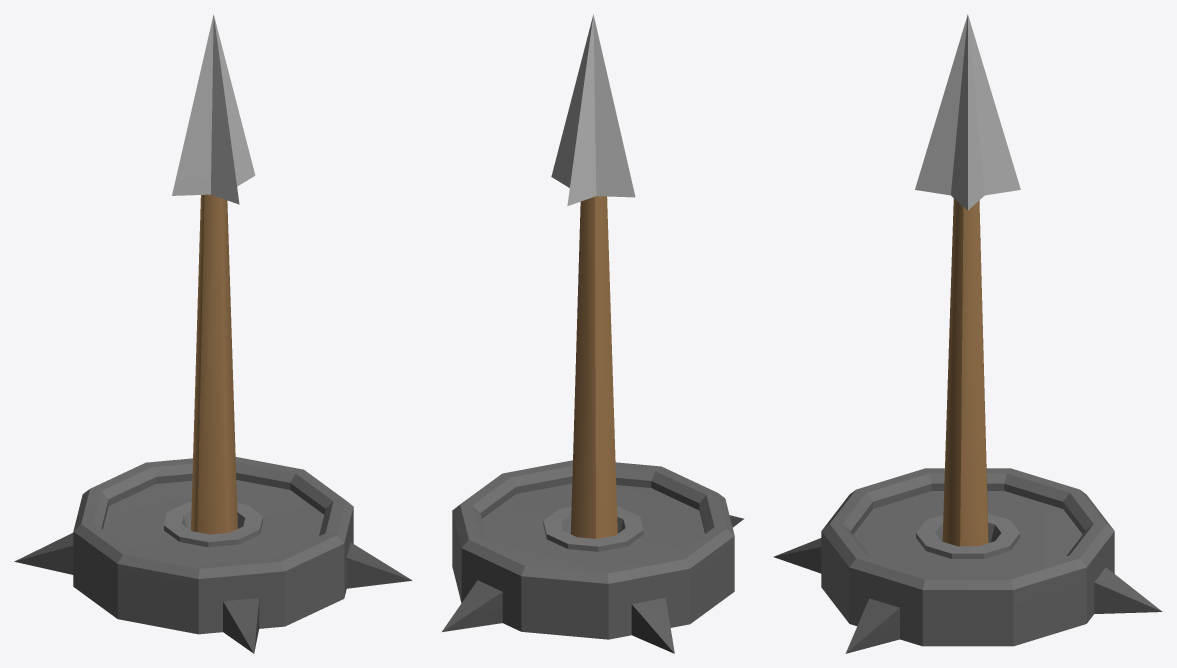
File: Ground_Thorn_Trap.fbx
3 views of the same model, side by side, from view 1: azimuth 30°, elevation 25°; view 2: azimuth 150°, elevation 25°; view 3: azimuth 270°, elevation 25° (orthographic). The views are drawn at different scales.
Visible parts, largest first — view 1: Ground_Thorn_Trap, Ground_Thorn_Trap_Arrow; view 2: Ground_Thorn_Trap, Ground_Thorn_Trap_Arrow; view 3: Ground_Thorn_Trap, Ground_Thorn_Trap_Arrow.
Boxes of the visible parts, left/top/right/bottom form: Ground_Thorn_Trap: left=14, top=457, right=412, bottom=653; Ground_Thorn_Trap_Arrow: left=172, top=14, right=255, bottom=534; Ground_Thorn_Trap: left=442, top=460, right=744, bottom=653; Ground_Thorn_Trap_Arrow: left=551, top=14, right=635, bottom=538; Ground_Thorn_Trap: left=773, top=468, right=1162, bottom=653; Ground_Thorn_Trap_Arrow: left=915, top=14, right=1020, bottom=546.
Bounding box in the file's own units: 24.4 × 46.69 × 28.76.
1 material, 1 textured.
